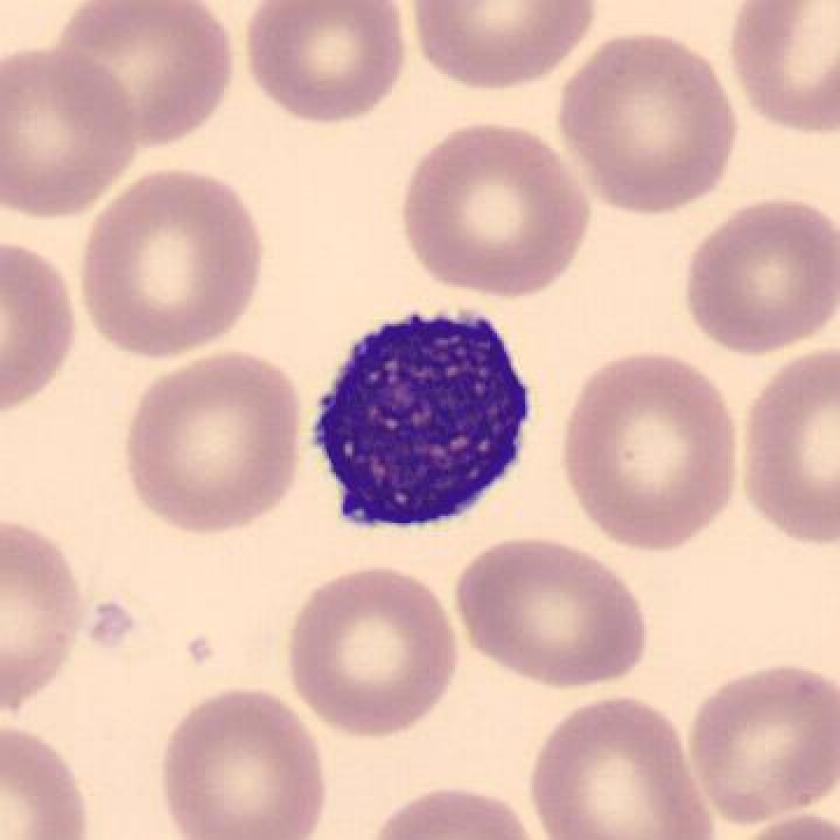lymphocyte: (300, 293, 547, 550)
